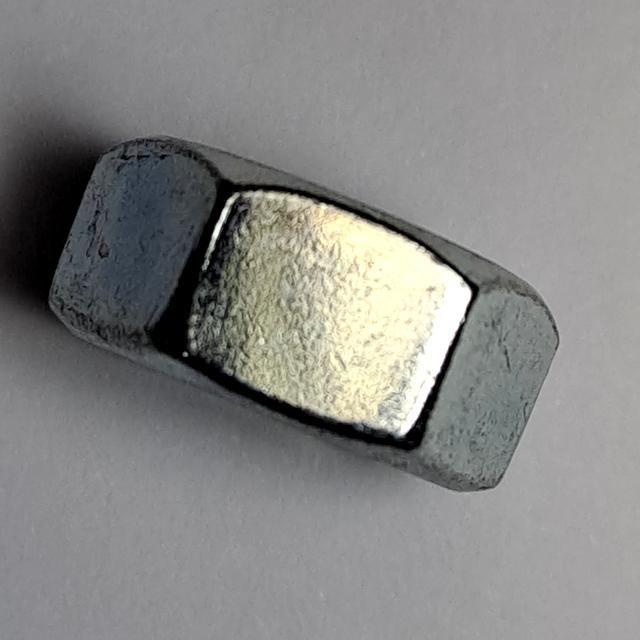Side_Excellent: (44, 124, 575, 502)
